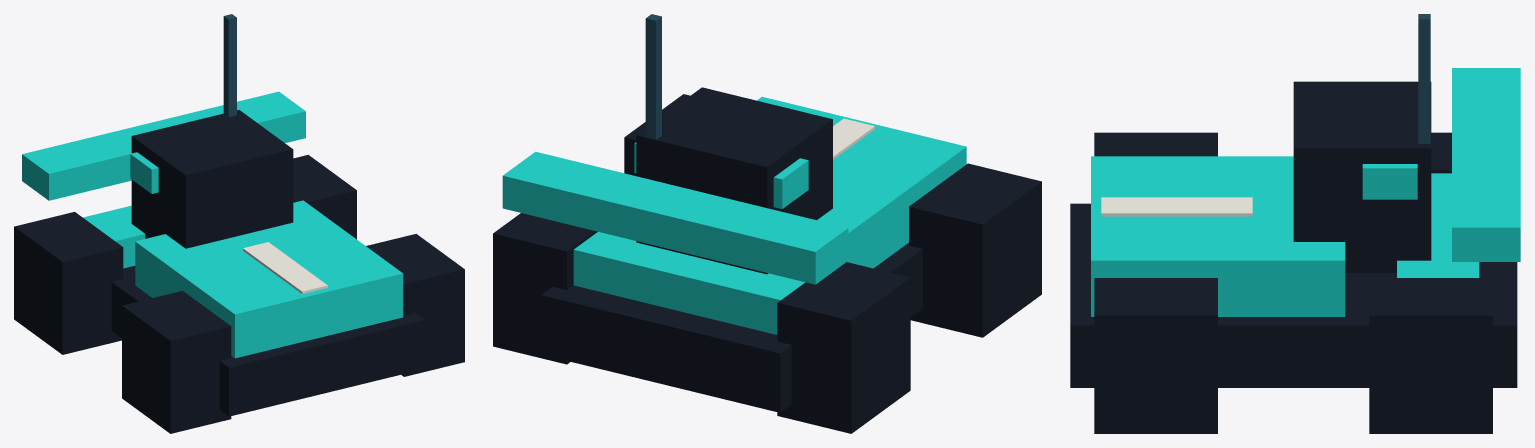
File: kart-0.glb
The picture shows the model from 3 angles, left to right: view 1: azimuth 30°, elevation 25°; view 2: azimuth 150°, elevation 25°; view 3: azimuth 270°, elevation 25°; orthographic projection. The views are drawn at different scales.
Parts seen in each view (by area): view 1: track-part-3, track-part-1, track-part-2, track-part-0; view 2: track-part-3, track-part-1, track-part-0, track-part-2; view 3: track-part-3, track-part-1, track-part-2, track-part-0.
Boxes of the visible parts, x1,y1,x2,y2 form: track-part-3: [14, 110, 464, 433]; track-part-1: [22, 91, 403, 358]; track-part-2: [243, 242, 327, 293]; track-part-0: [223, 14, 236, 117]; track-part-3: [493, 87, 1041, 433]; track-part-1: [502, 96, 966, 334]; track-part-0: [645, 14, 661, 139]; track-part-2: [833, 118, 874, 159]; track-part-3: [1070, 81, 1517, 433]; track-part-1: [1091, 68, 1520, 316]; track-part-2: [1101, 197, 1252, 216]; track-part-0: [1418, 14, 1430, 143].
Size of the model in its own units: 0.63 by 0.565 by 0.655.
